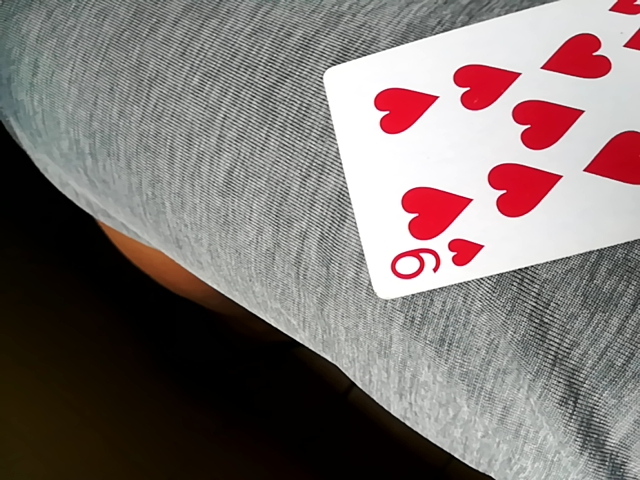hx 9: (317, 2, 638, 298)
